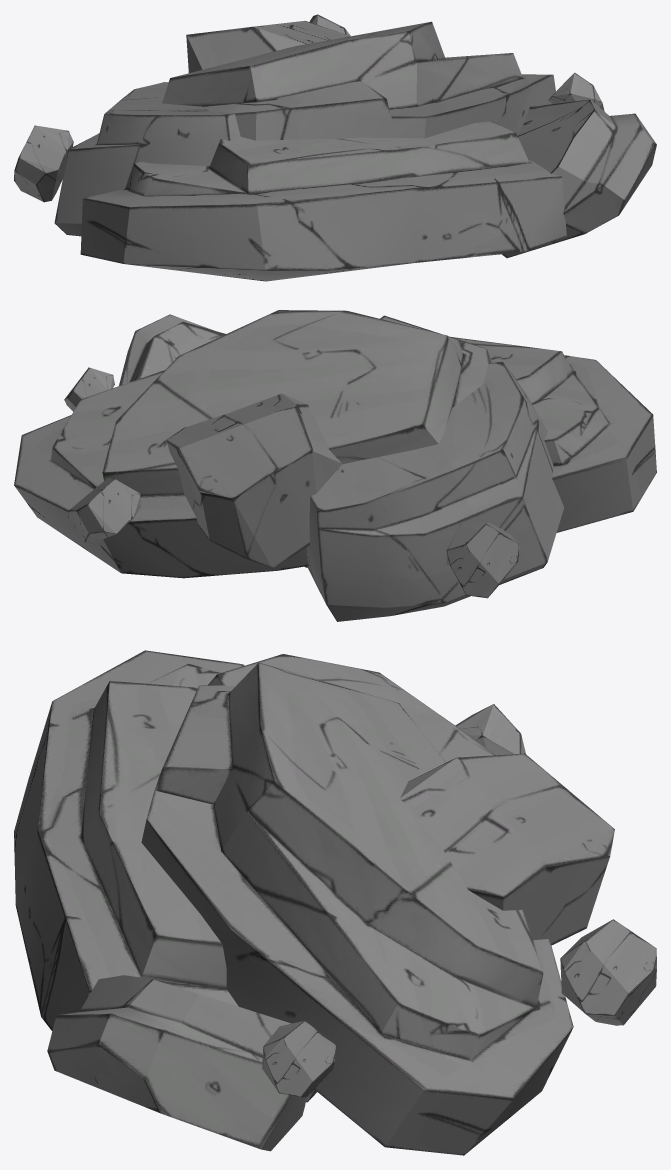
File: RockLandSmall001.glb
The picture shows the model from 3 angles, top to bottom: view 1: azimuth 30°, elevation 25°; view 2: azimuth 150°, elevation 25°; view 3: azimuth 270°, elevation 25°; orthographic projection. The views are drawn at different scales.
Visible parts, largest first — view 1: SM_Generated_50_BP_PopProp_RockLandSmall_001; view 2: SM_Generated_50_BP_PopProp_RockLandSmall_001; view 3: SM_Generated_50_BP_PopProp_RockLandSmall_001.
Boxes of the visible parts, x1,y1,x2,y2 form: SM_Generated_50_BP_PopProp_RockLandSmall_001: (14,14,656,281); SM_Generated_50_BP_PopProp_RockLandSmall_001: (14,310,656,621); SM_Generated_50_BP_PopProp_RockLandSmall_001: (14,650,656,1155).
Size of the model in its own units: 2.43 by 0.9818 by 1.87.
Materials: 1 (1 with a texture image).
